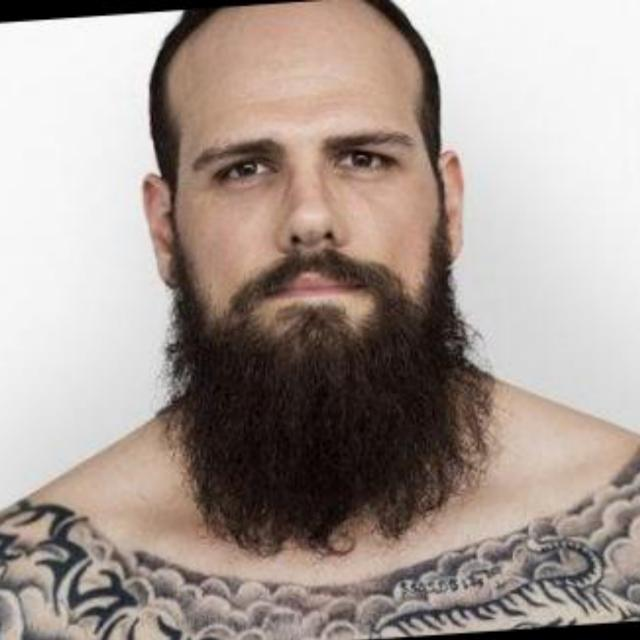Natural: (135, 61, 525, 461)
